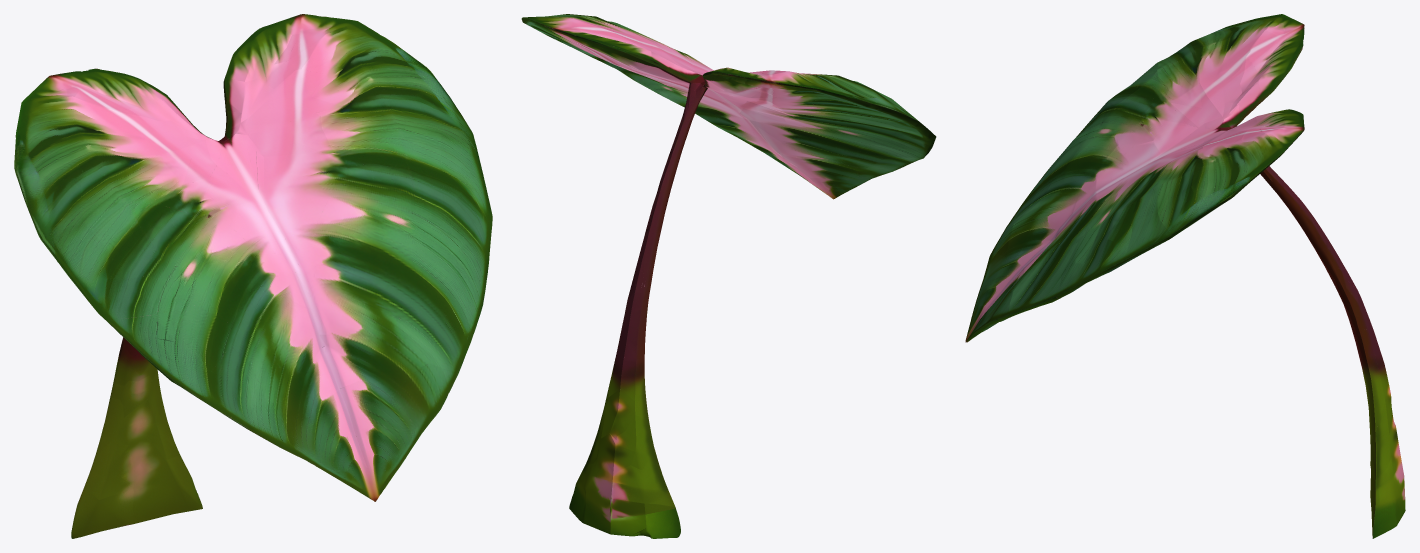
File: pp_leaf_mature_plain.glb
3 renders of one model, left to right at view 1: azimuth 30°, elevation 25°; view 2: azimuth 150°, elevation 25°; view 3: azimuth 270°, elevation 25°, orthographic. The views are drawn at different scales.
Bounding box in the file's own units: 1.68 × 1.9 × 1.74.
1 material, 1 textured.
